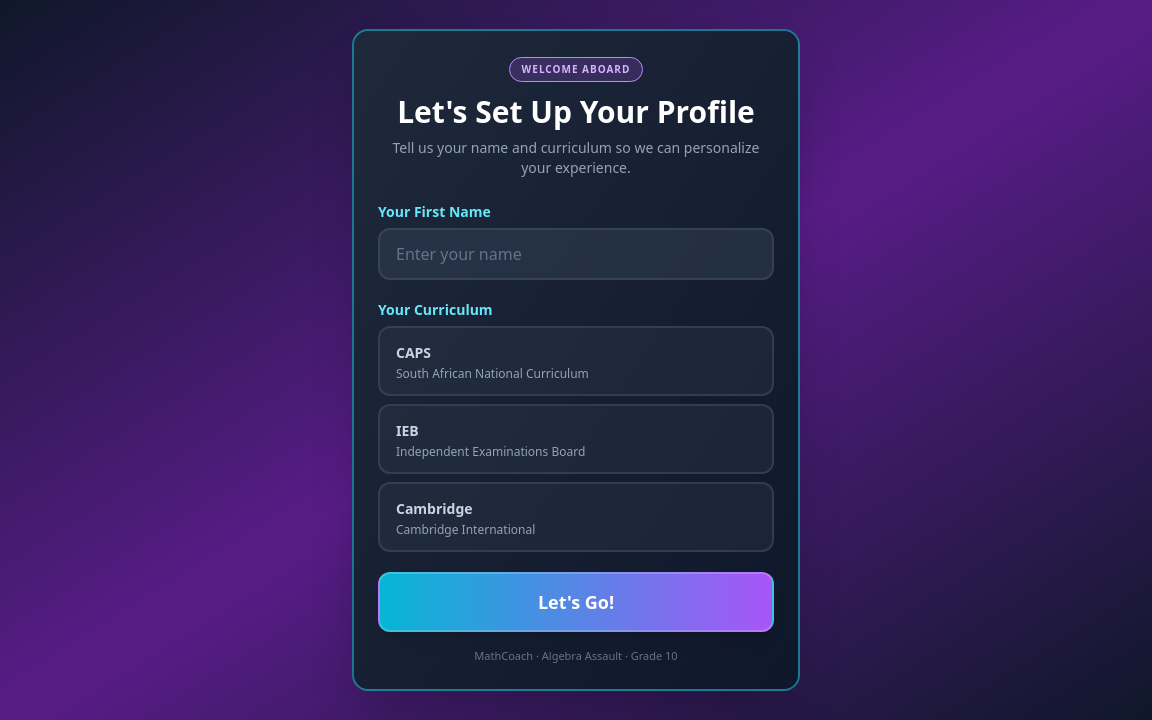
Test: OnboardingScreen component › shows curriculum validation error when no curriculum selected
In the field labelled "Your First Name": (576, 254) [378,228,774,280], type "Sarah"
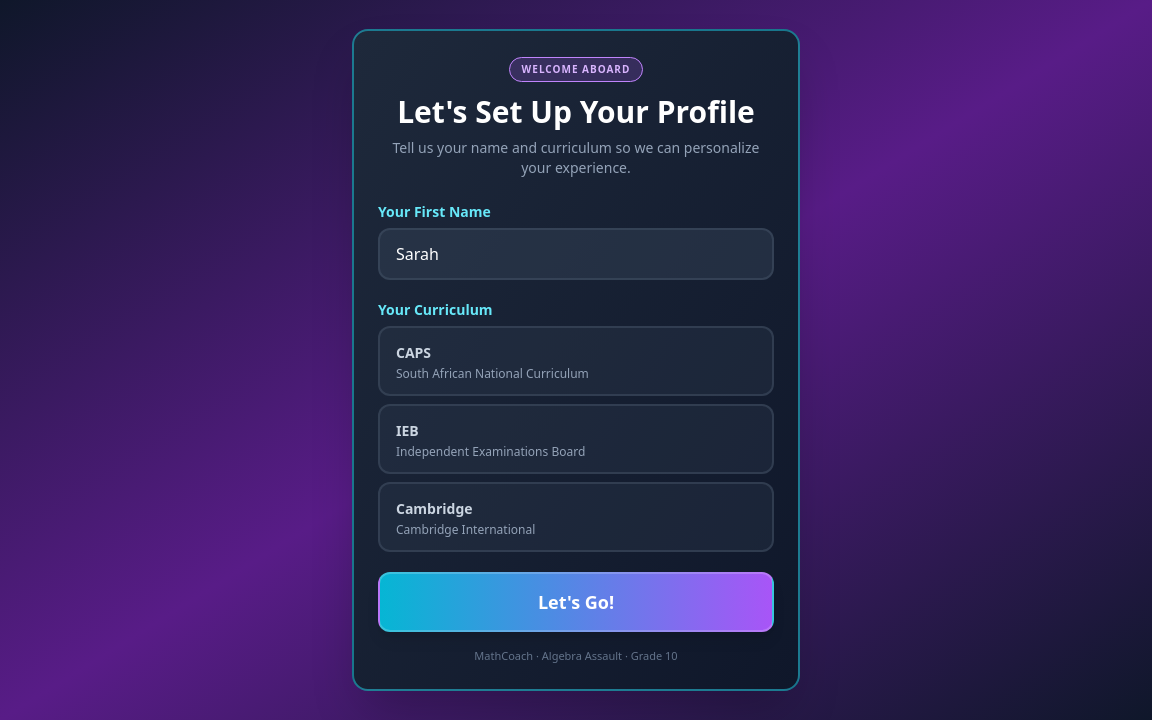
Click the button "Let's Go!": click(576, 602) [378,572,774,632]
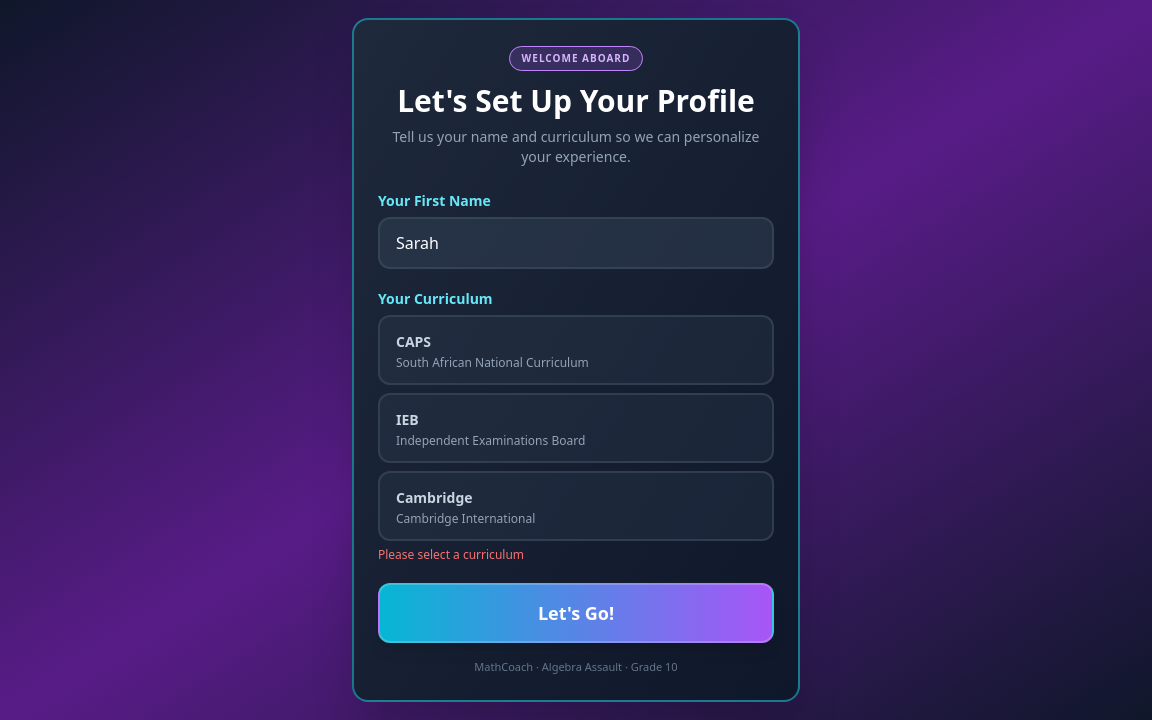
Check: the text "Please select a curriculum" is shown, box [378,546,524,563]
